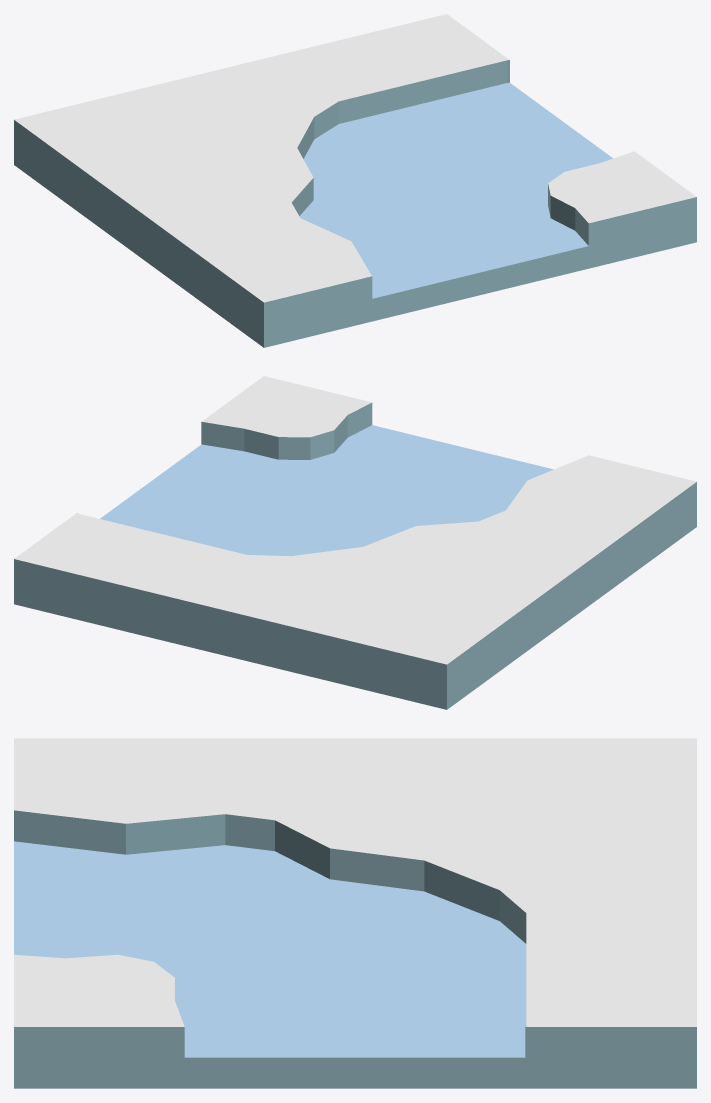
Rendered from Terrain_Modular_Tiles_Snow_Ice_River_Bend_02.fbx.
3 renders of one model, top to bottom at view 1: azimuth 30°, elevation 25°; view 2: azimuth 150°, elevation 25°; view 3: azimuth 270°, elevation 25°, orthographic. The views are drawn at different scales.
Visible parts, largest first — view 1: Terrain_Modular_Tiles_Snow_Ice_River_Bend_02; view 2: Terrain_Modular_Tiles_Snow_Ice_River_Bend_02; view 3: Terrain_Modular_Tiles_Snow_Ice_River_Bend_02.
Part boxes in pixels (x1,y1,x2,y2): Terrain_Modular_Tiles_Snow_Ice_River_Bend_02: [14, 14, 696, 347]; Terrain_Modular_Tiles_Snow_Ice_River_Bend_02: [14, 376, 696, 709]; Terrain_Modular_Tiles_Snow_Ice_River_Bend_02: [14, 738, 696, 1088].
Bounding box in the file's own units: 3000 × 300 × 3000.
